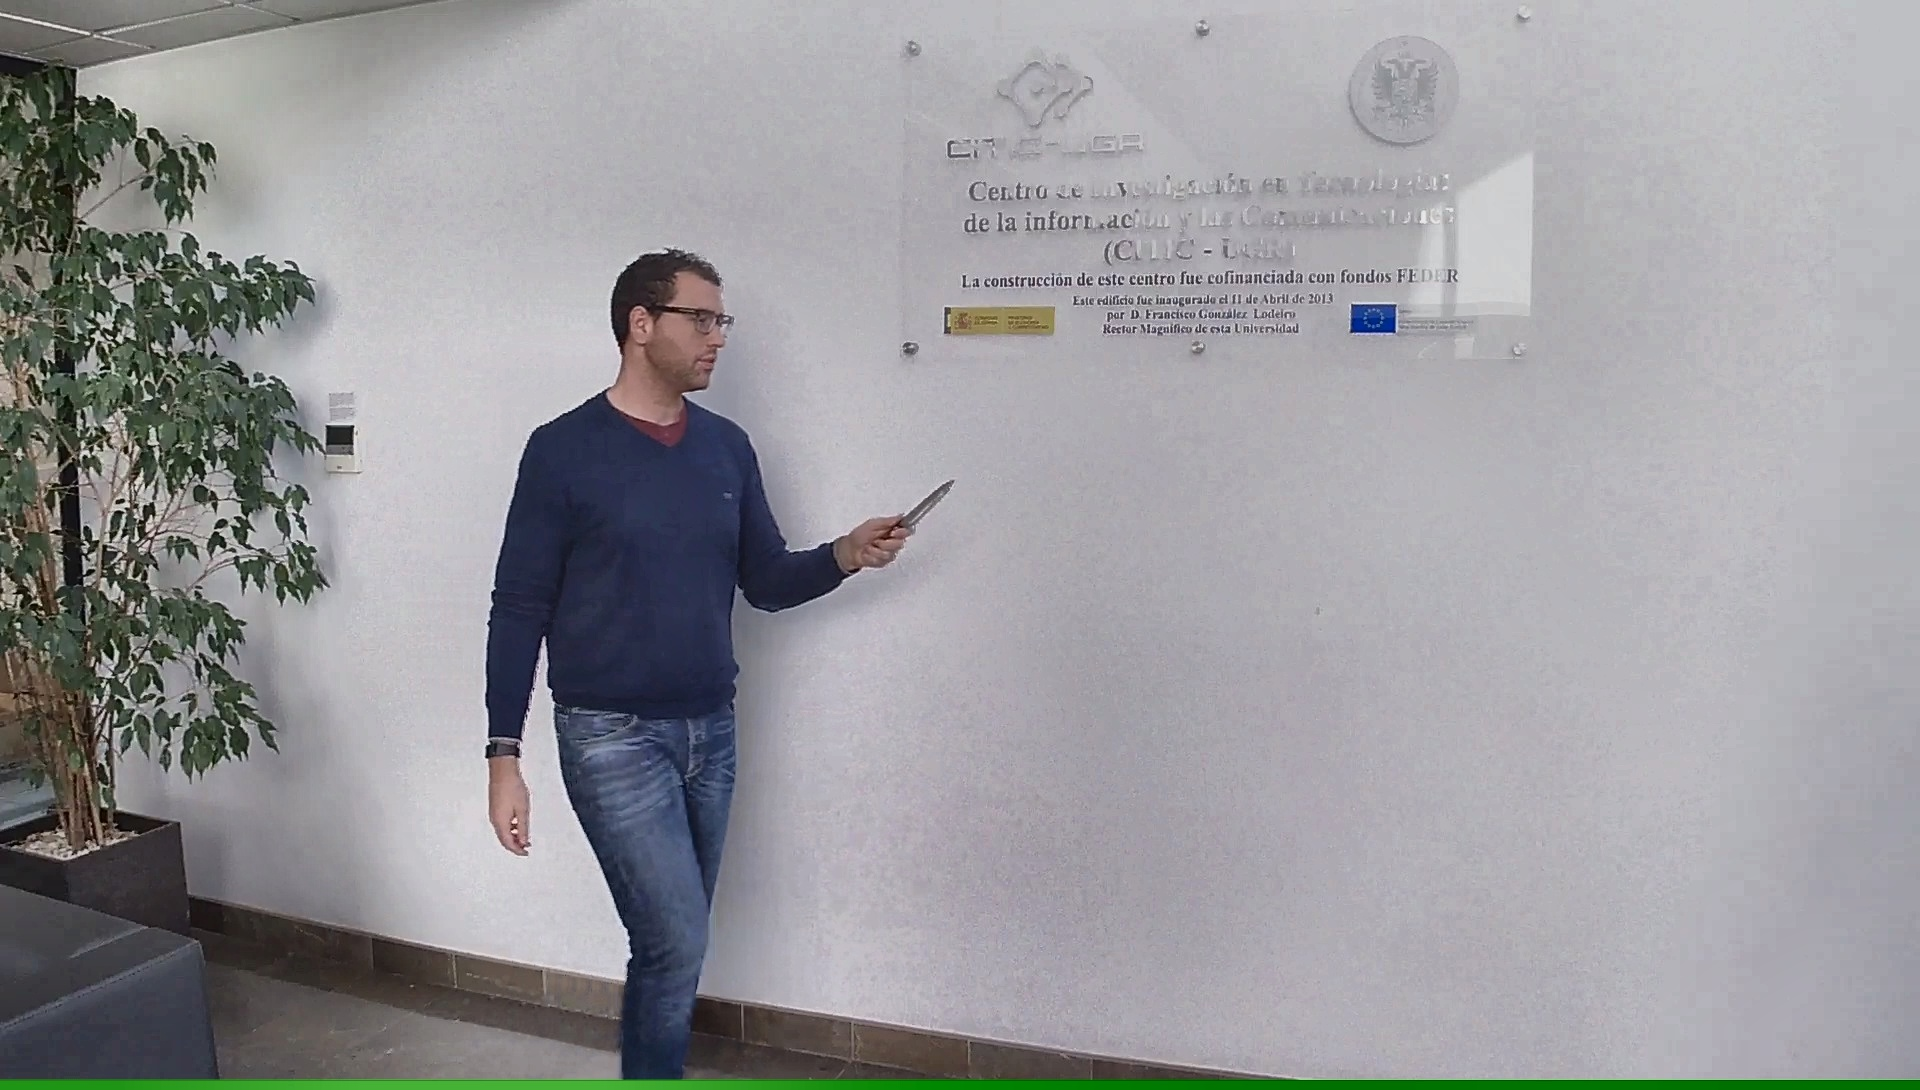knife: (857, 468, 963, 569)
